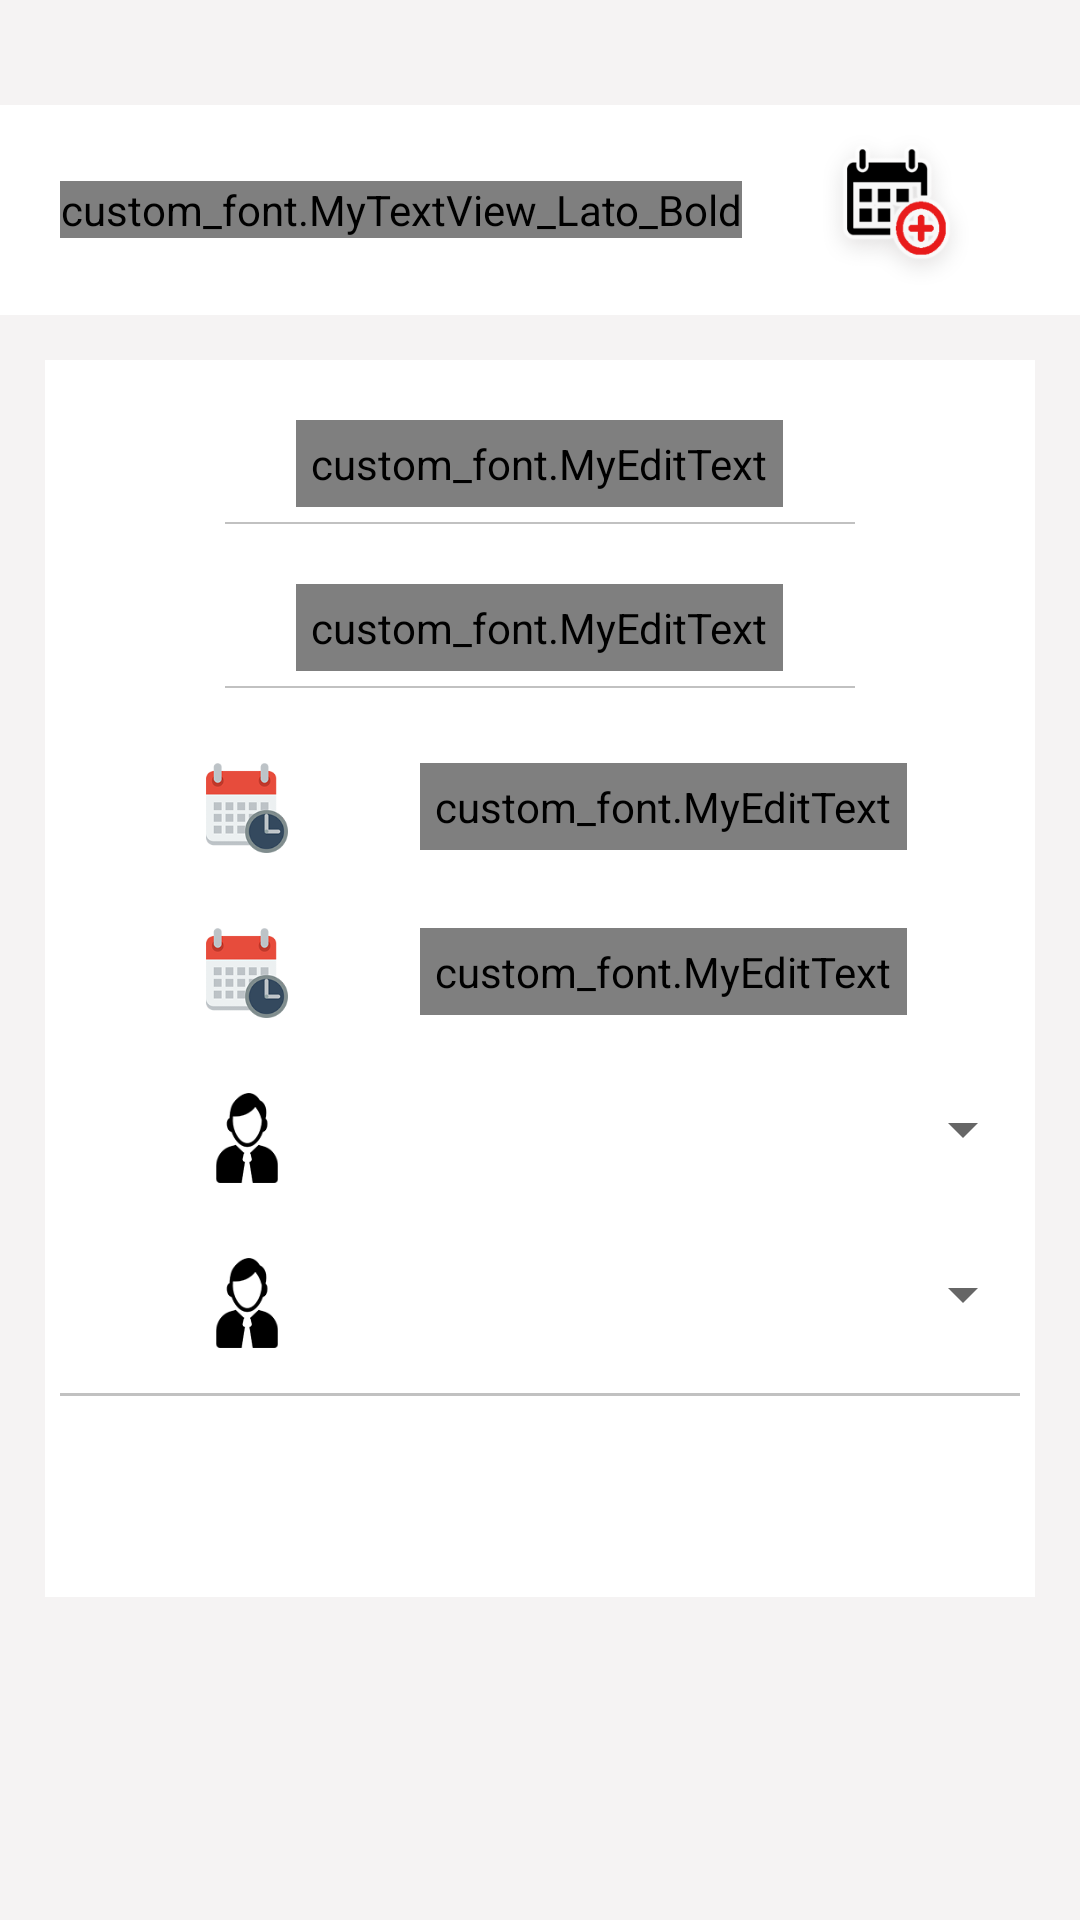

Point at icon controls on the screen. Image size 1080 × 1920, points as (x,y).
cal: (247,808), (247,973)
people: (247,1138), (247,1303)
